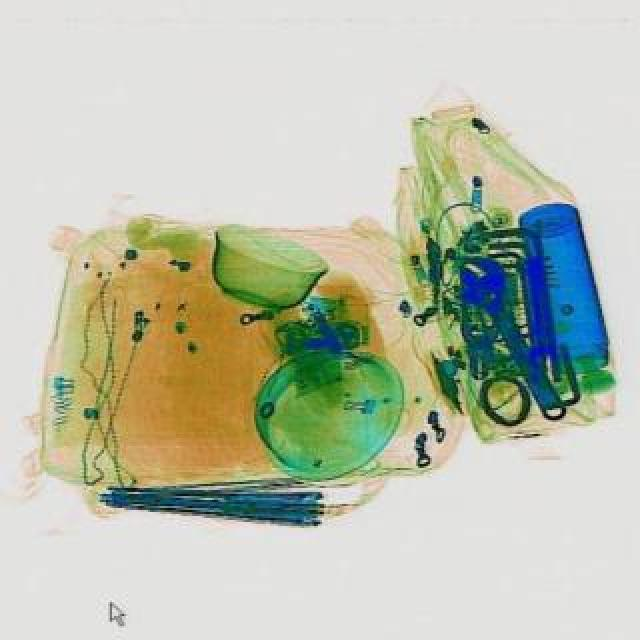scissors: (440, 246, 580, 430)
